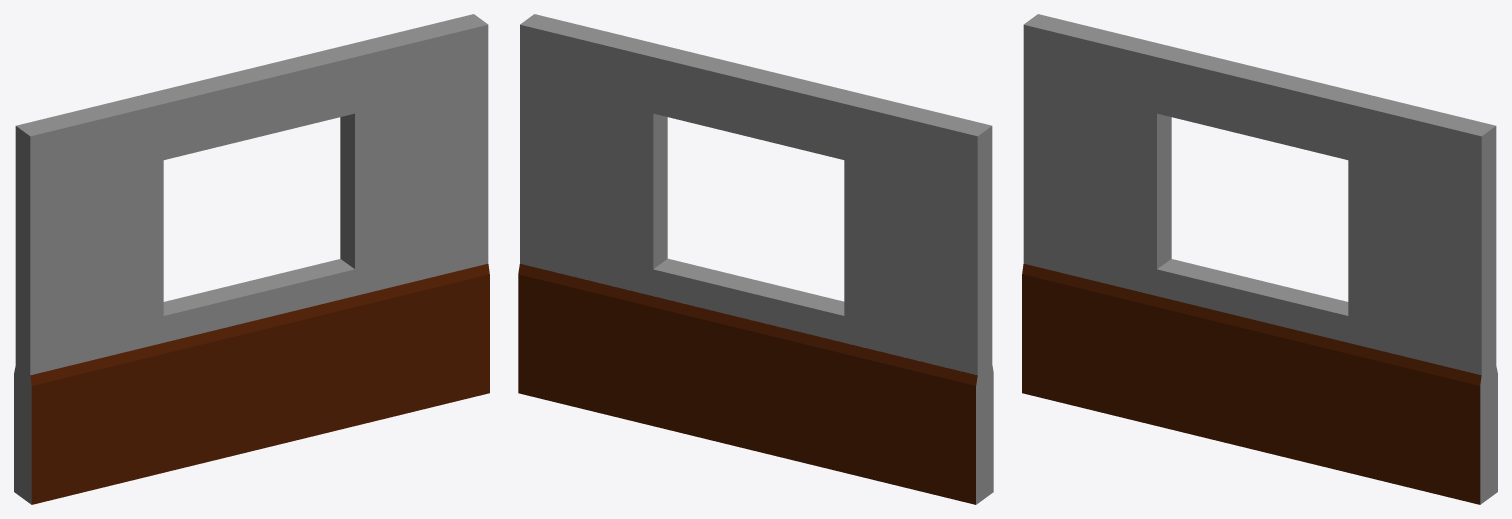
Rendered from SM_WallWindow.FBX.
3 views of the same model, side by side, from view 1: azimuth 30°, elevation 25°; view 2: azimuth 150°, elevation 25°; view 3: azimuth 330°, elevation 25° (orthographic).
Parts seen in each view (by area): view 1: SM_Wall_Window; view 2: SM_Wall_Window; view 3: SM_Wall_Window.
Boxes of the visible parts, <box> form: SM_Wall_Window: <box>14,14,489,504</box>; SM_Wall_Window: <box>518,14,993,504</box>; SM_Wall_Window: <box>1022,14,1497,504</box>.
Size of the model in its own units: 118 by 90.55 by 7.87.
